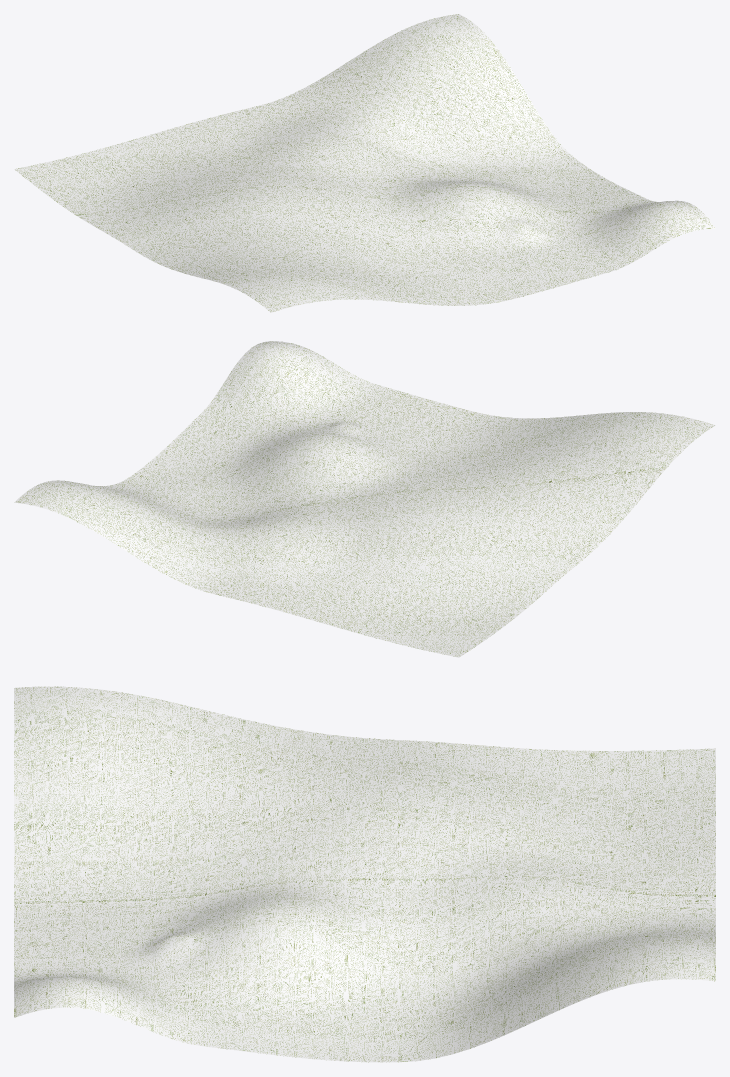
File: scenario1.dae
3 views of the same model, one above another, from view 1: azimuth 30°, elevation 25°; view 2: azimuth 150°, elevation 25°; view 3: azimuth 270°, elevation 25° (orthographic). The views are drawn at different scales.
Visible parts, largest first — view 1: group_0; view 2: group_0; view 3: group_0.
Boxes of the visible parts, <box> form: group_0: <box>14,14,715,312</box>; group_0: <box>14,341,715,657</box>; group_0: <box>14,686,715,1062</box>.
Size of the model in its own units: 1200 by 1200 by 162.
Materials: 2 (1 with a texture image).
